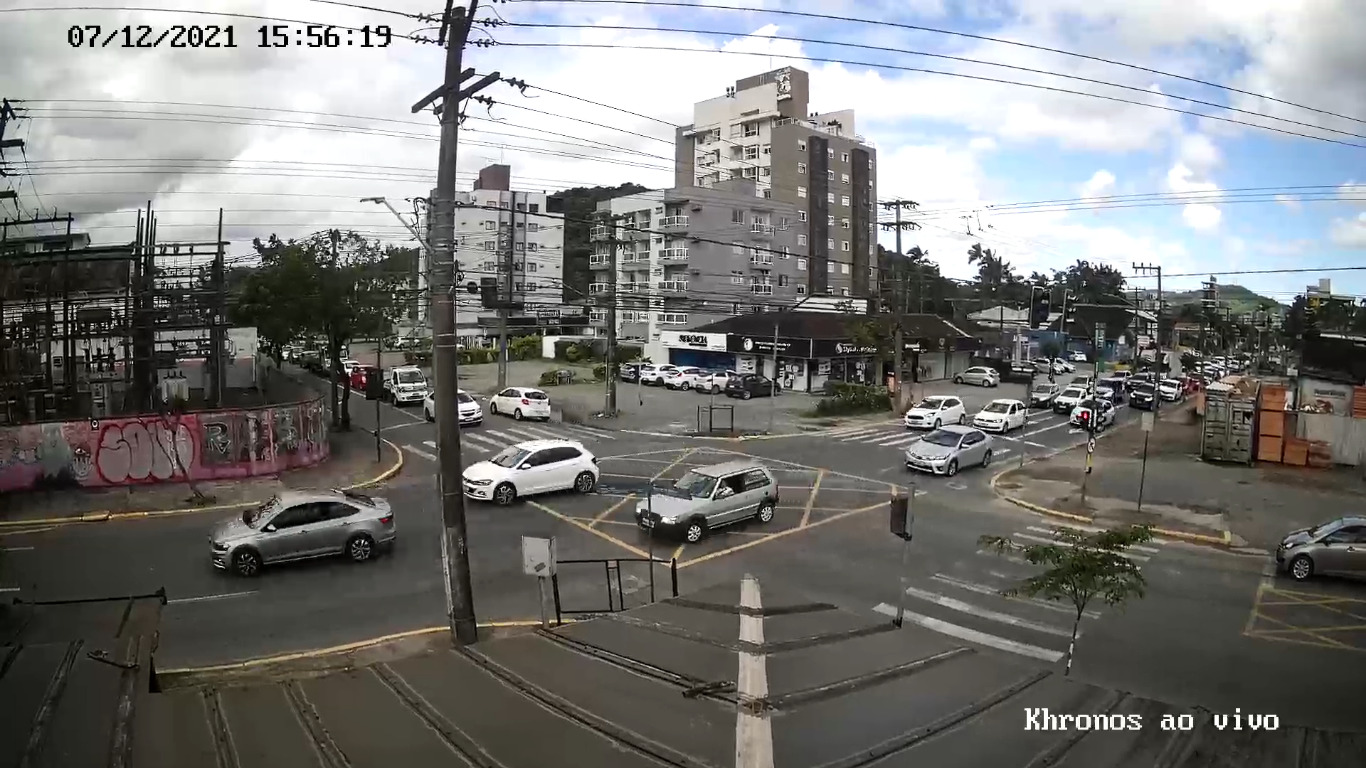car: (207, 487, 396, 577), (634, 460, 780, 545), (459, 438, 601, 507)
